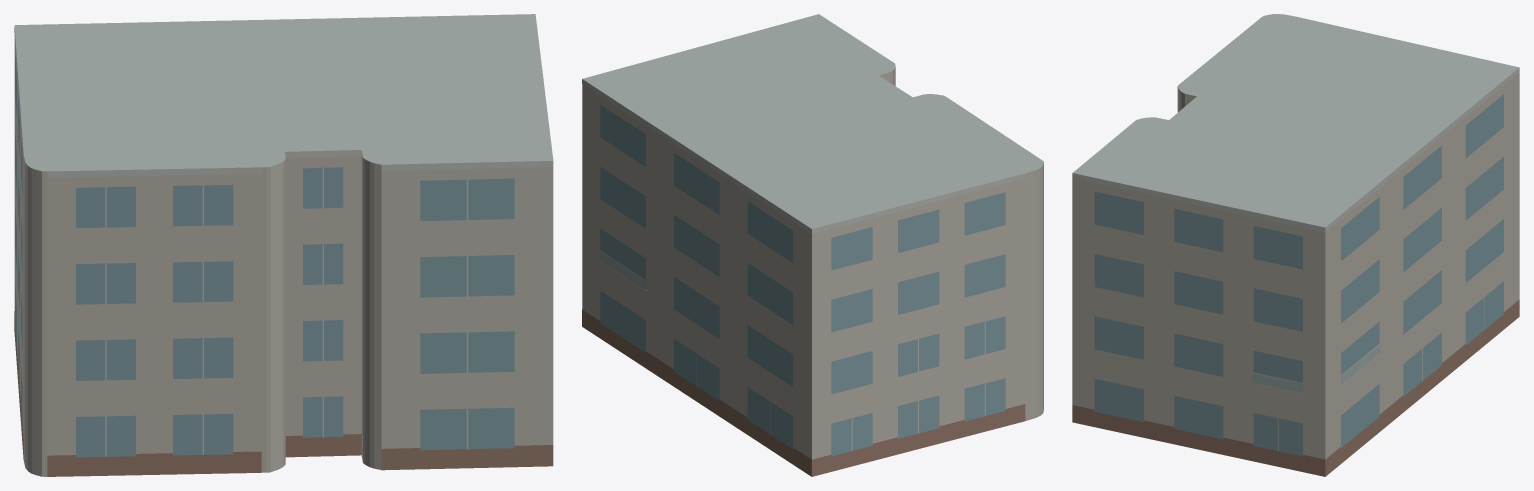
The model's file is survey-upis-32947934.glb.
3 views of the same model, side by side, from view 1: azimuth 30°, elevation 25°; view 2: azimuth 150°, elevation 25°; view 3: azimuth 270°, elevation 25° (orthographic). The views are drawn at different scales.
Parts seen in each view (by area): view 1: survey-upis-32947934.tmp; view 2: survey-upis-32947934.tmp; view 3: survey-upis-32947934.tmp.
Part boxes in pixels (<box>): survey-upis-32947934.tmp: <box>14,14,553,476</box>; survey-upis-32947934.tmp: <box>582,14,1043,476</box>; survey-upis-32947934.tmp: <box>1072,14,1519,476</box>.
Bounding box in the file's own units: 21.86 × 11.9 × 19.34.
